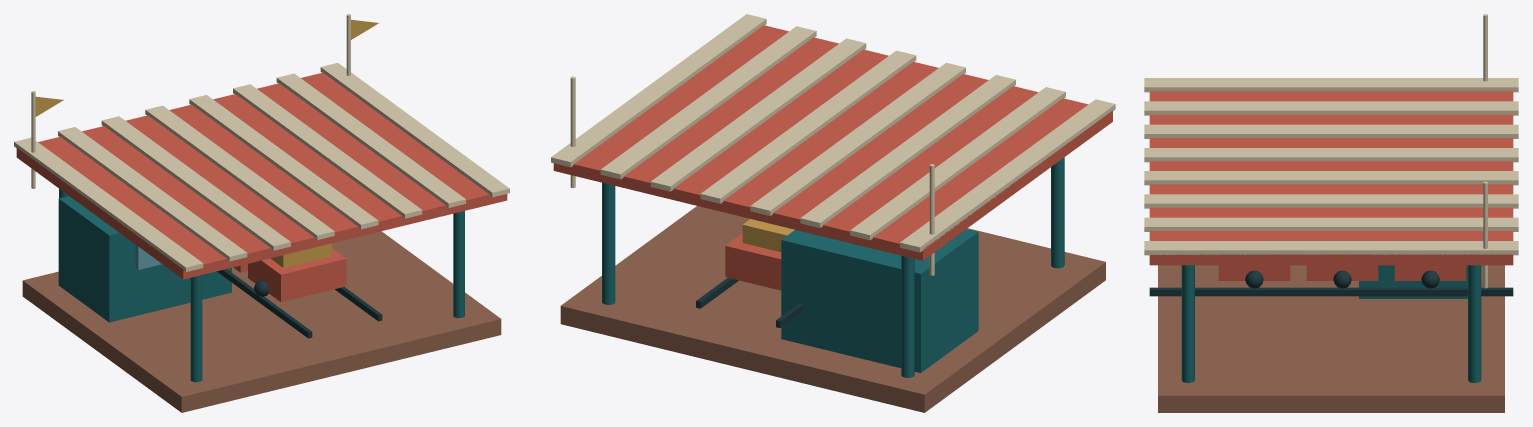
File: ride_coaster.glb
3 views of the same model, side by side, from view 1: azimuth 30°, elevation 25°; view 2: azimuth 150°, elevation 25°; view 3: azimuth 270°, elevation 25° (orthographic). The views are drawn at different scales.
Parts seen in each view (by area): view 1: ride_coaster; view 2: ride_coaster; view 3: ride_coaster.
Part boxes in pixels (x1,y1,x2,y2): ride_coaster: [14, 14, 509, 412]; ride_coaster: [551, 14, 1115, 412]; ride_coaster: [1144, 14, 1518, 412].
Bounding box in the file's own units: 8 × 4.59 × 6.8.
